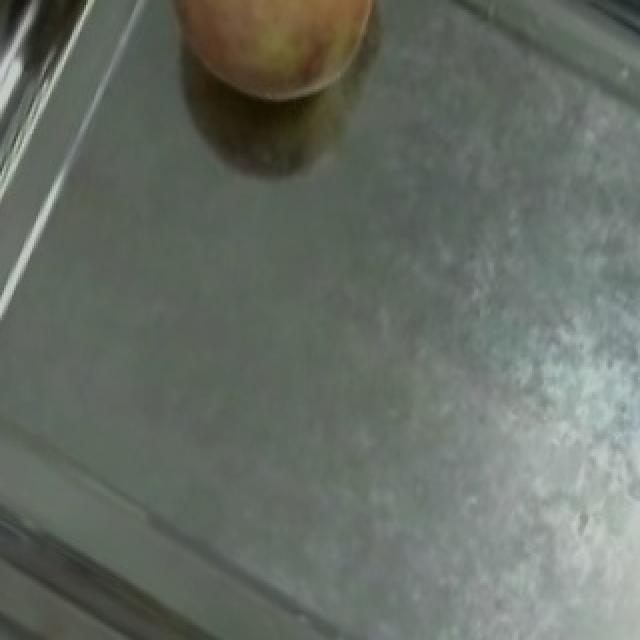Fruit: (132, 0, 410, 141)
